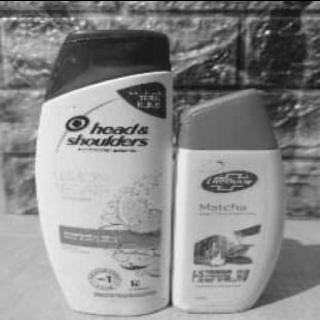objects: (36, 27, 176, 318), (170, 86, 282, 316)
